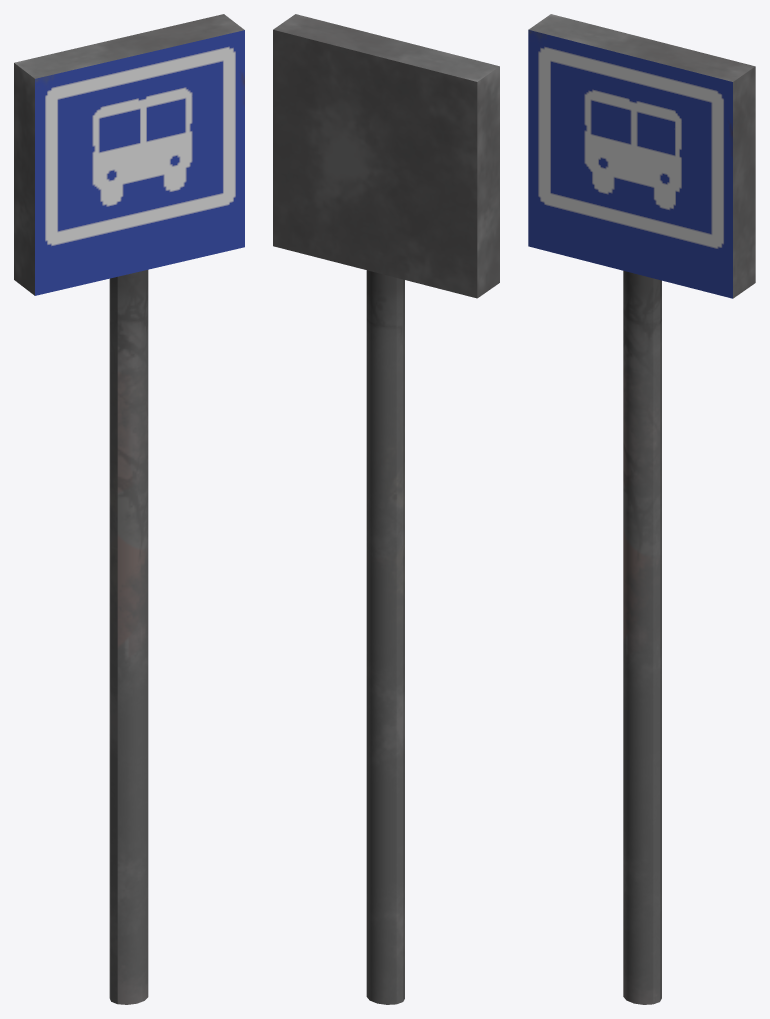
File: PlacaBusao.fbx
3 views of the same model, side by side, from view 1: azimuth 30°, elevation 25°; view 2: azimuth 150°, elevation 25°; view 3: azimuth 330°, elevation 25° (orthographic).
Parts seen in each view (by area): view 1: BusSign; view 2: BusSign; view 3: BusSign.
Part boxes in pixels (x1,y1,x2,y2): BusSign: [14, 14, 244, 1004]; BusSign: [273, 14, 499, 1004]; BusSign: [528, 14, 755, 1004].
Bounding box in the file's own units: 117 × 509 × 23.55.
